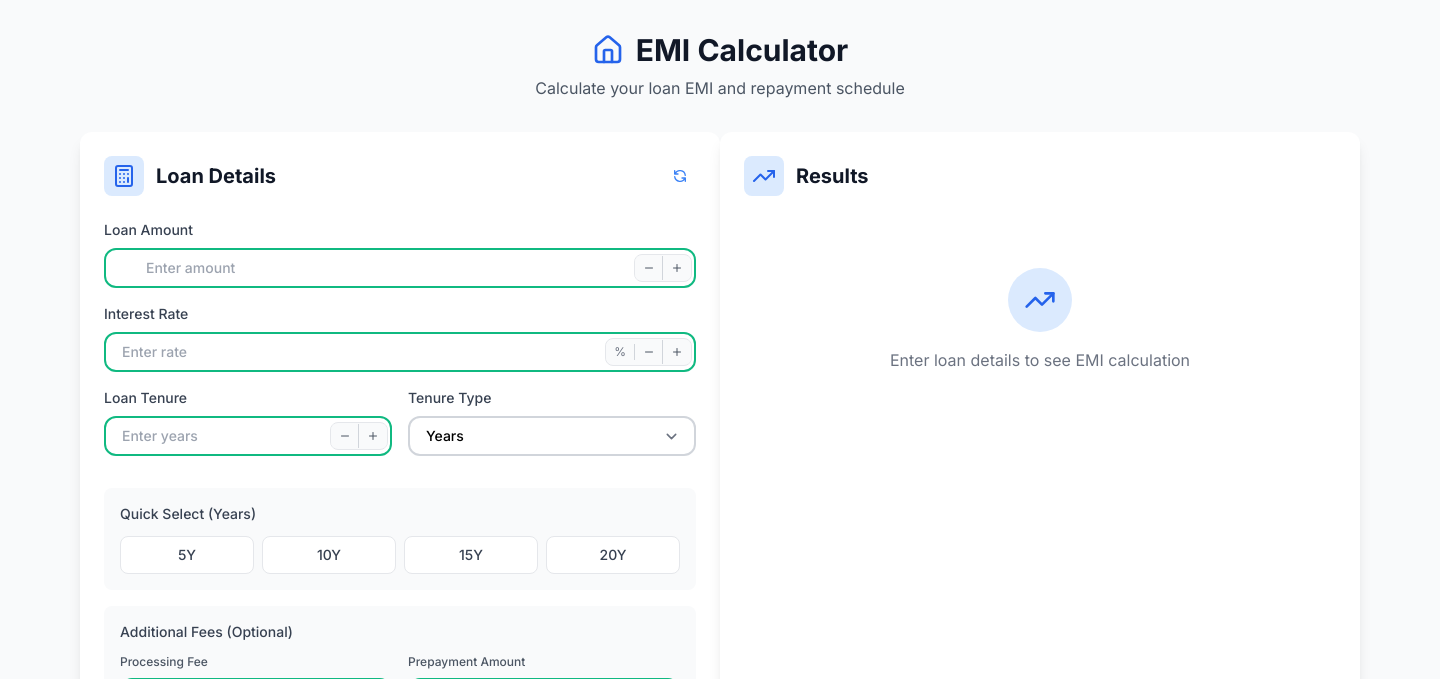
it: EMICalculator - Comprehensive Test Suite › 💰 Input Functionality & Calculations › should calculate EMI correctly with valid inputs
Input loan details
In the field with placeholder "Enter amount" below "Loan Amount": (400, 268) [104, 248, 696, 288], type "1000000"
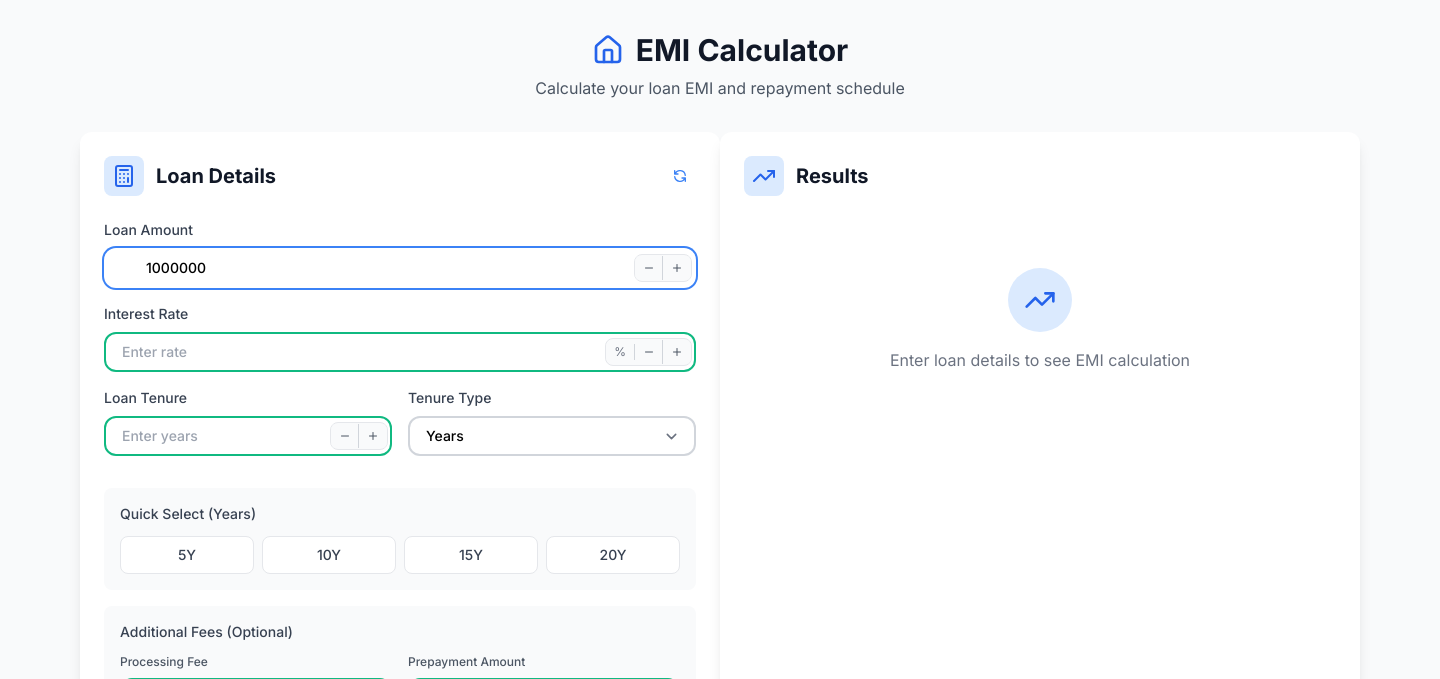
In the field with placeholder "Enter rate": (400, 352) [104, 332, 696, 372], type "10"
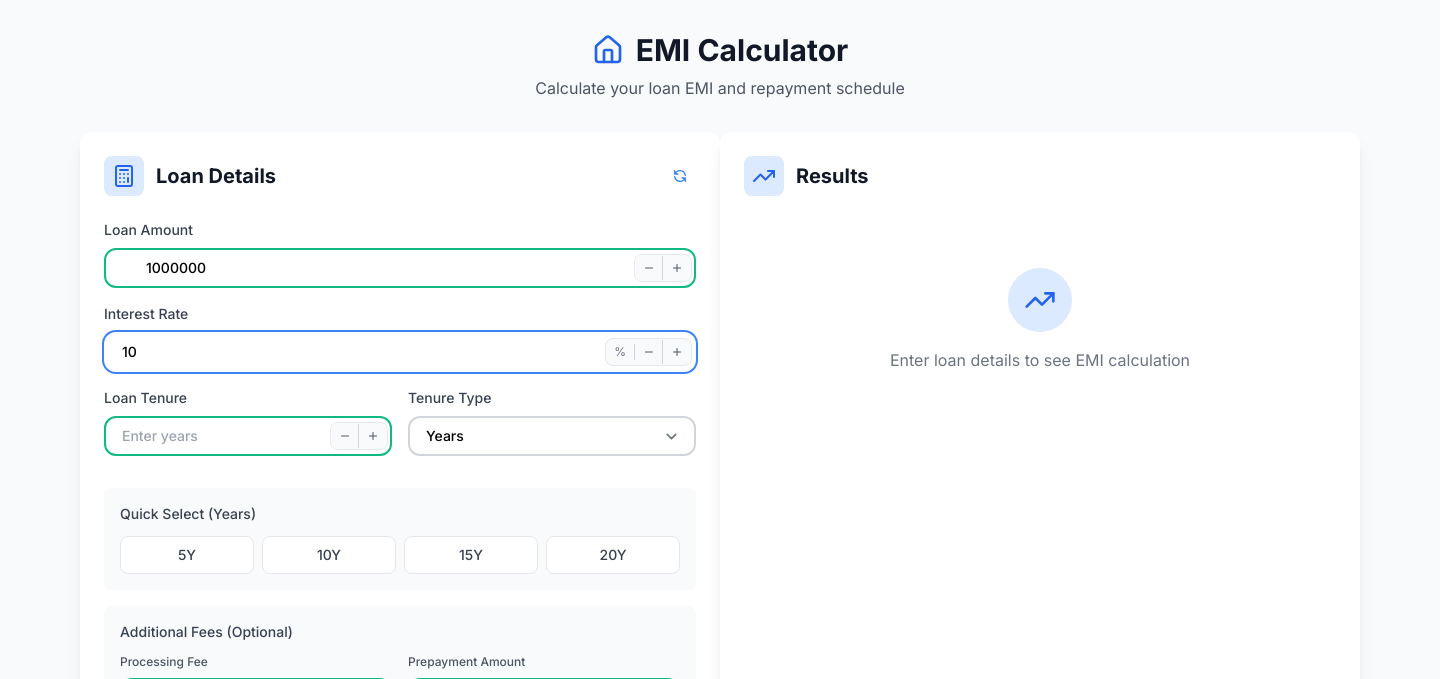
In the field with placeholder "Enter years": (248, 436) [104, 416, 392, 456], type "20"
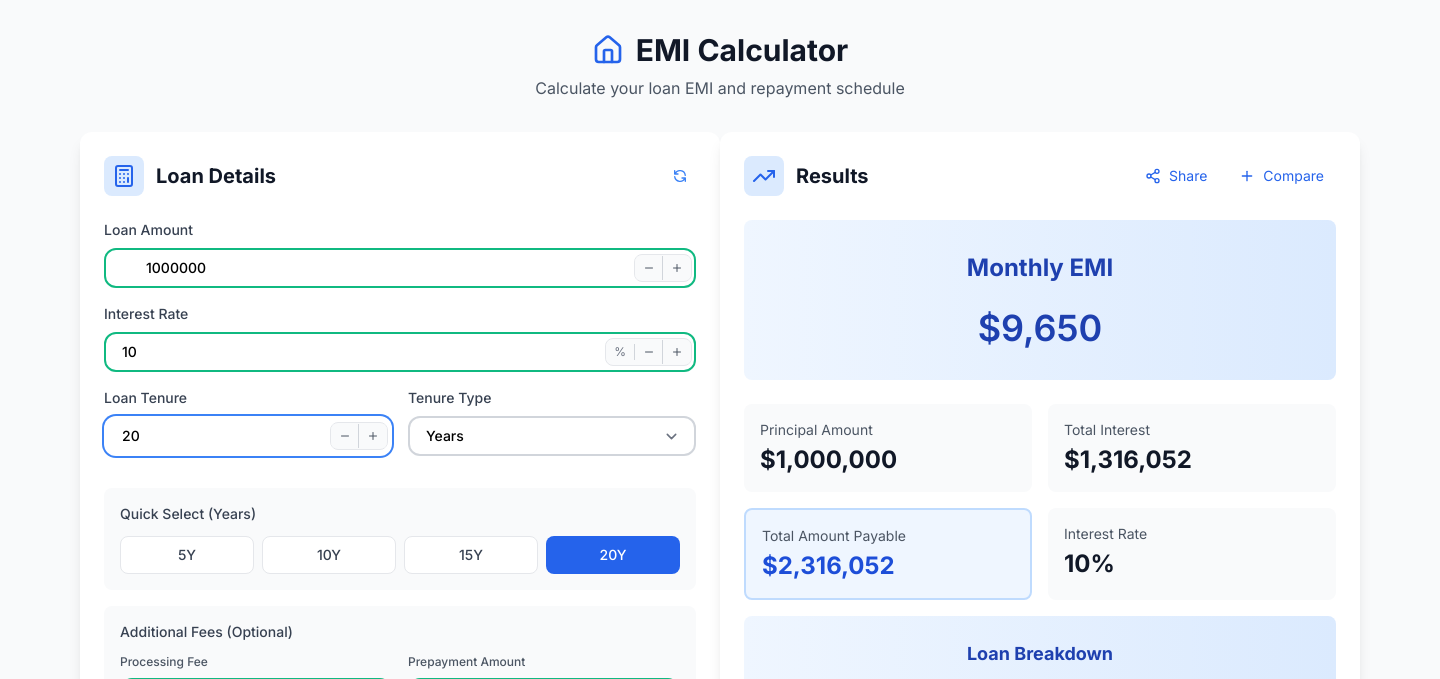
Expected: the heading "Monthly EMI" is shown, [967, 253, 1113, 282]
